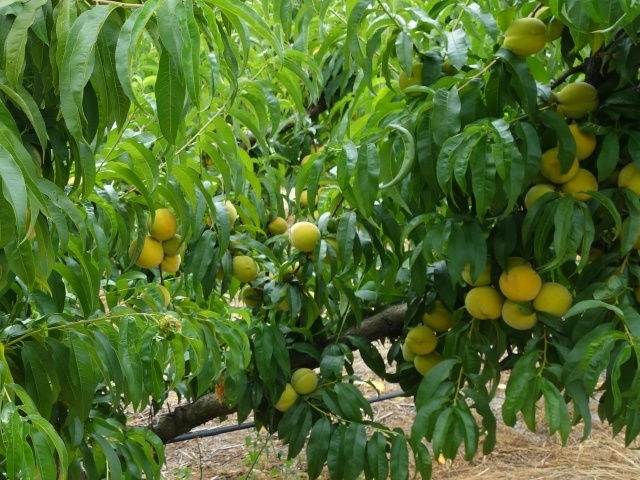peach: (501, 14, 553, 59), (496, 262, 545, 305), (553, 76, 602, 119), (463, 283, 506, 326), (540, 143, 584, 185), (455, 254, 503, 292), (124, 231, 167, 272), (531, 280, 575, 319), (559, 122, 602, 160), (522, 175, 569, 209), (565, 162, 602, 203), (284, 216, 324, 253), (418, 294, 454, 332), (499, 295, 537, 331), (411, 342, 446, 381), (145, 202, 179, 242), (404, 322, 440, 359), (398, 60, 432, 99), (615, 153, 639, 205), (273, 378, 306, 415), (288, 363, 322, 397), (230, 251, 262, 286), (157, 248, 188, 281), (159, 231, 189, 260), (266, 214, 291, 238)
